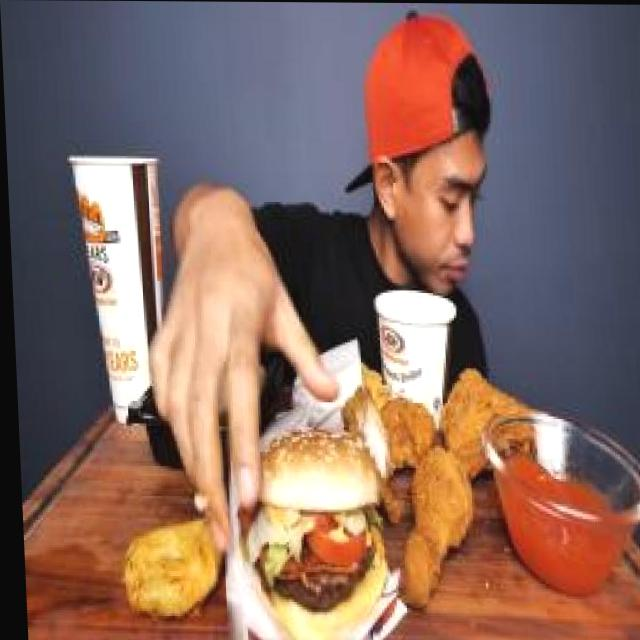AW cola: (63, 140, 183, 444)
crispy corn: (359, 274, 473, 443)
fried chicken: (345, 354, 537, 613)
mozza burger: (242, 421, 387, 632)
perkedel: (112, 488, 230, 626)
